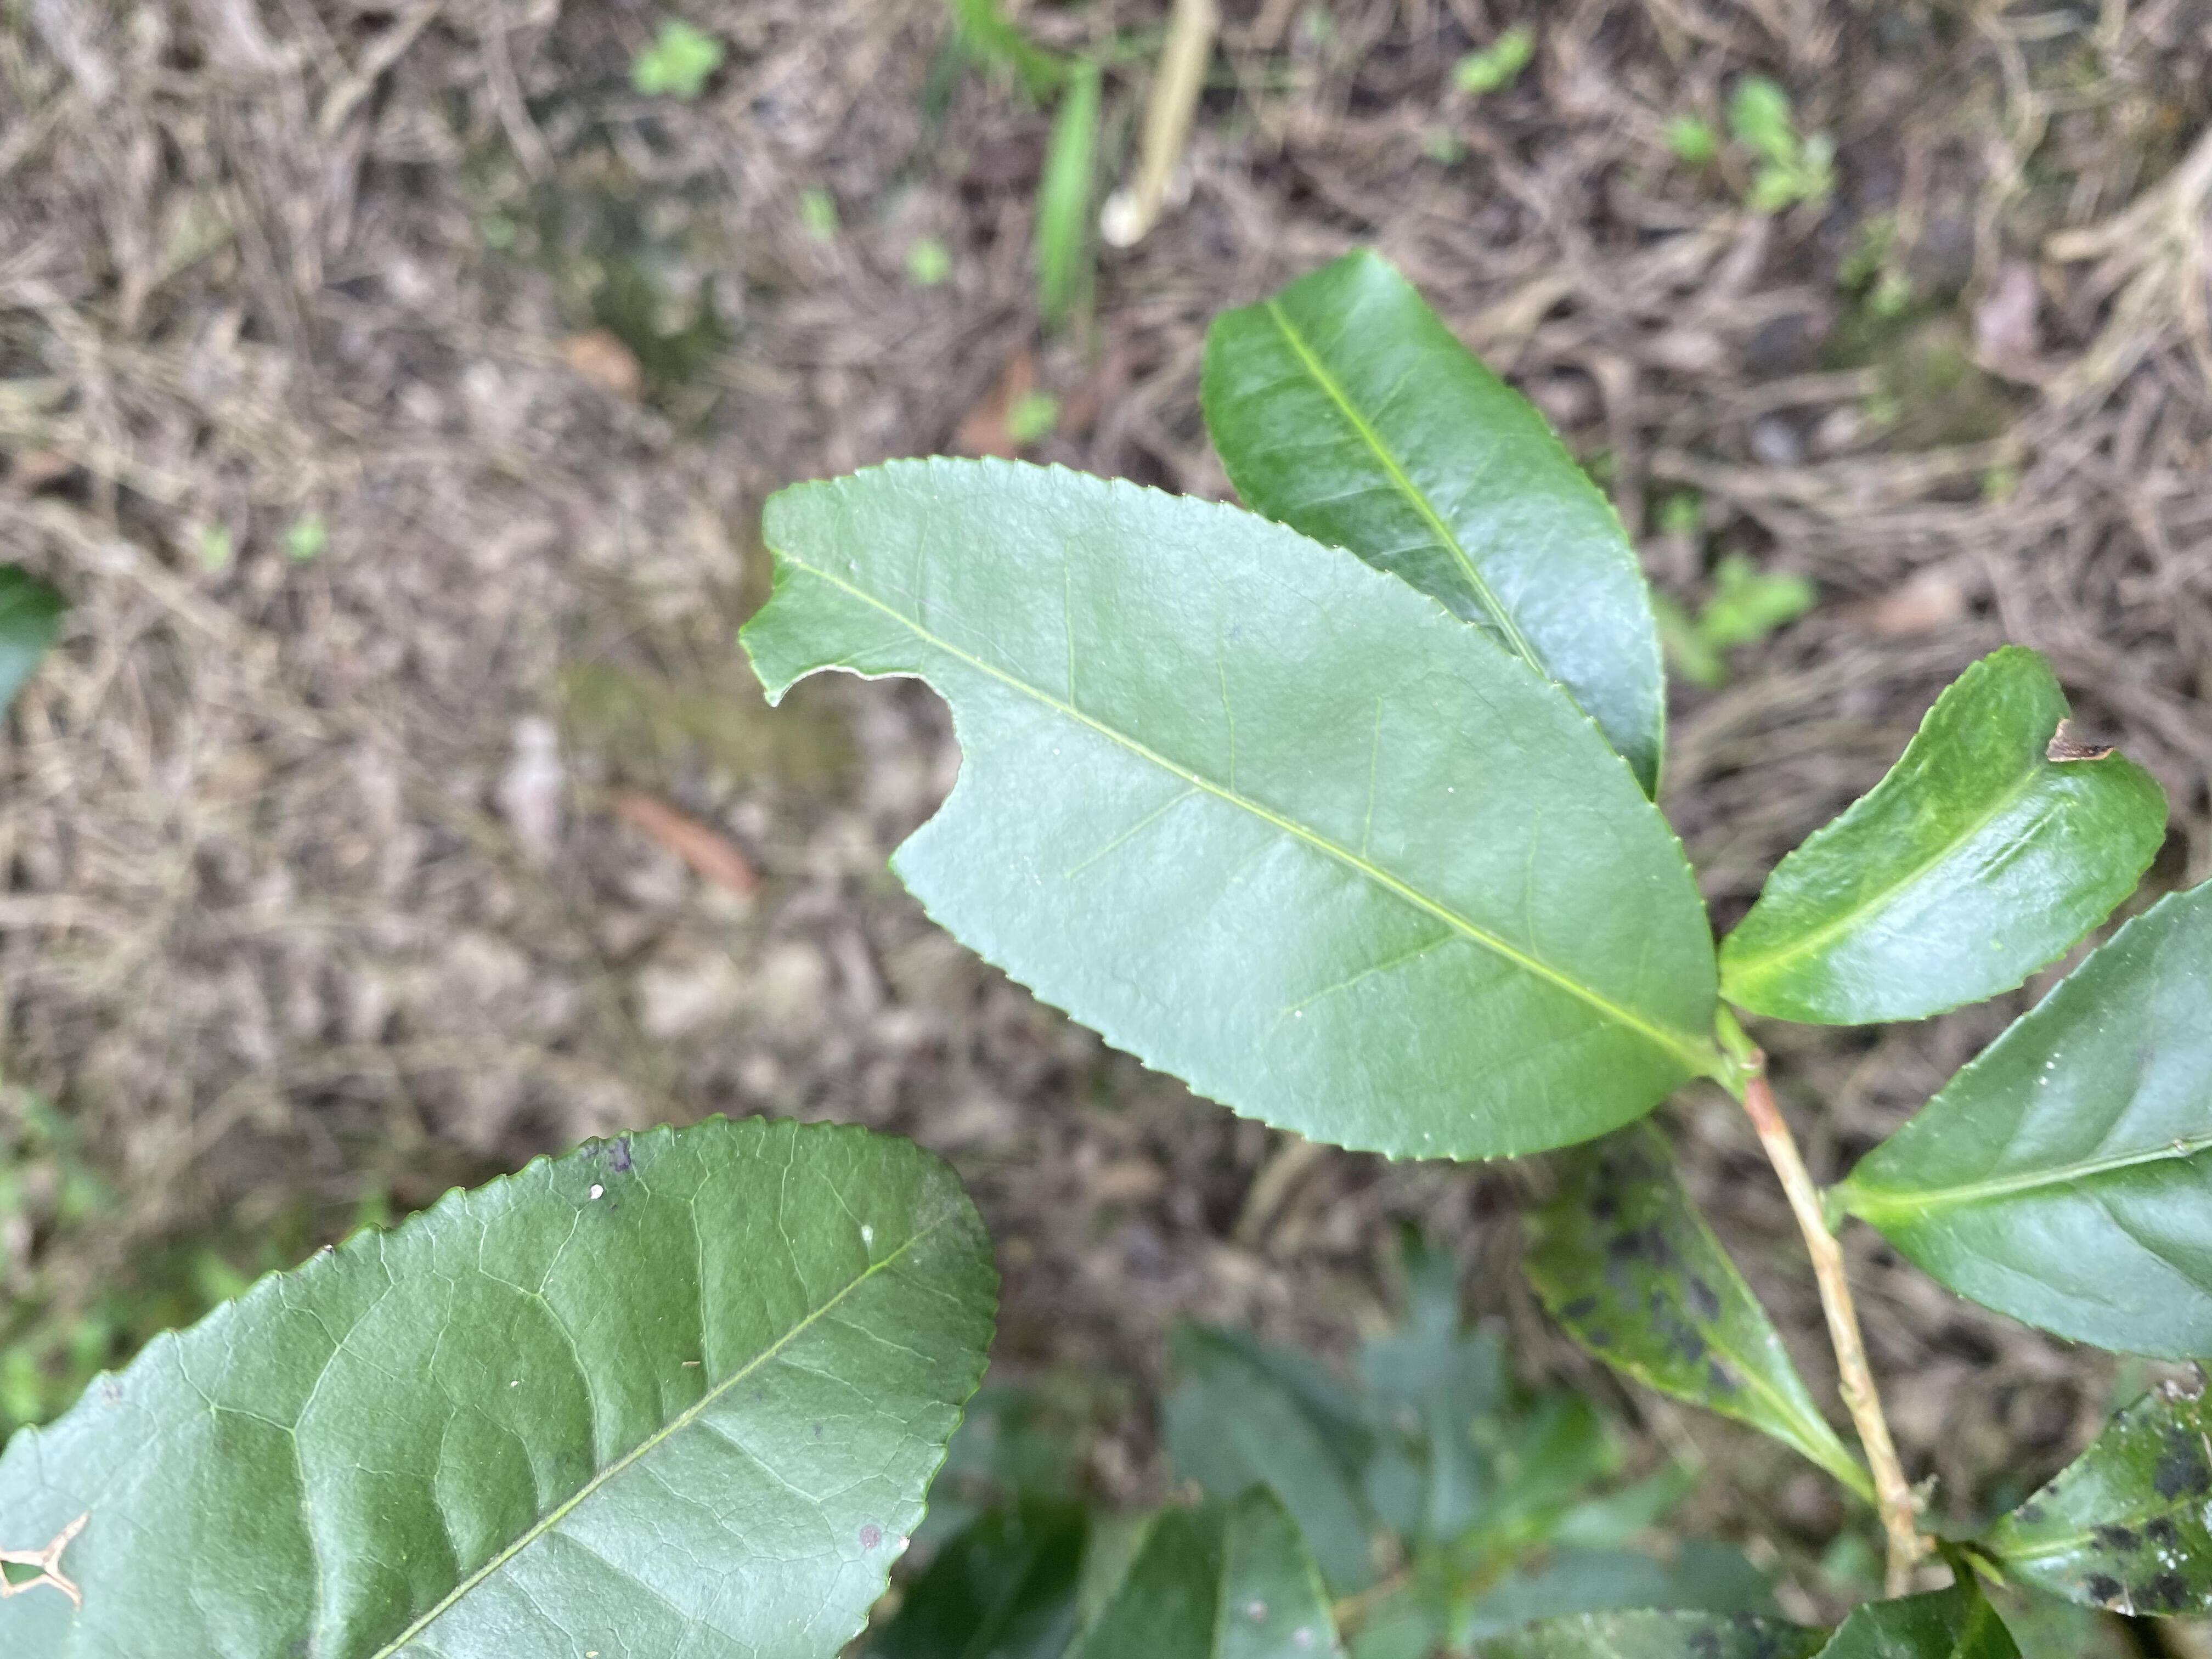chihuo_high: (735, 450, 1717, 1166)
tanju_low: (1719, 643, 2172, 1025)
